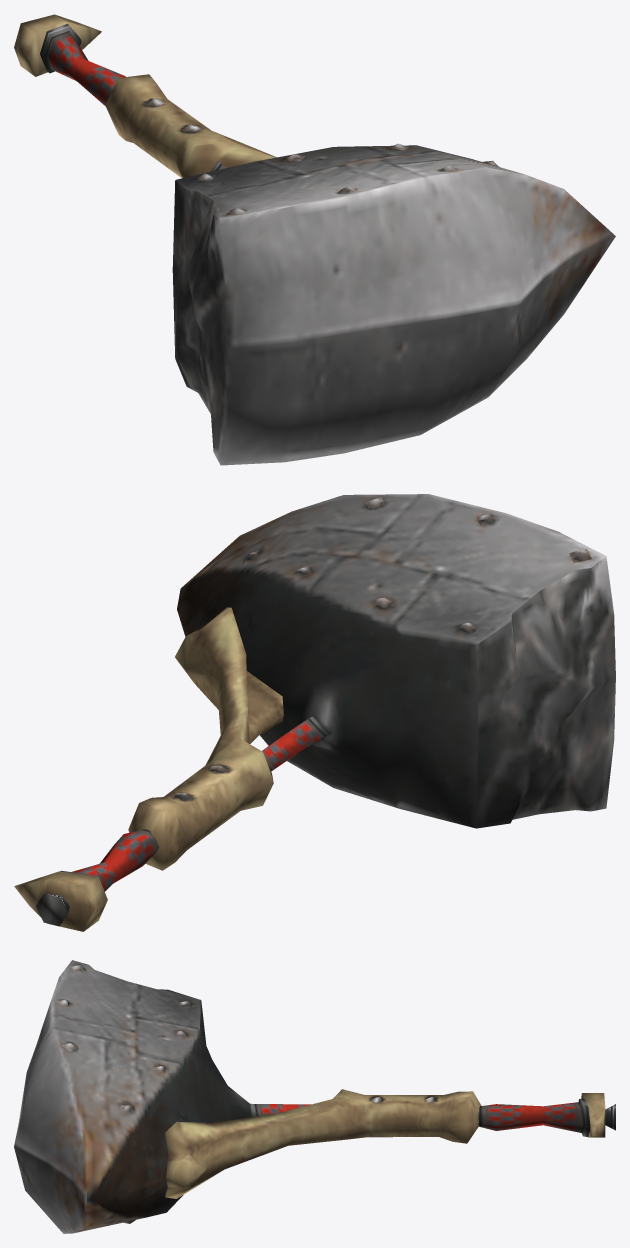
File: we030_amh.OBJ
3 renders of one model, top to bottom at view 1: azimuth 30°, elevation 25°; view 2: azimuth 150°, elevation 25°; view 3: azimuth 270°, elevation 25°, orthographic. The views are drawn at different scales.
Parts seen in each view (by area): view 1: mesh_0; view 2: mesh_0; view 3: mesh_0.
Boxes of the visible parts, <box> form: mesh_0: <box>14,14,615,465</box>; mesh_0: <box>14,494,615,931</box>; mesh_0: <box>14,960,615,1233</box>.
Size of the model in its own units: 102 by 61.76 by 174.
Materials: 1 (1 with a texture image).
